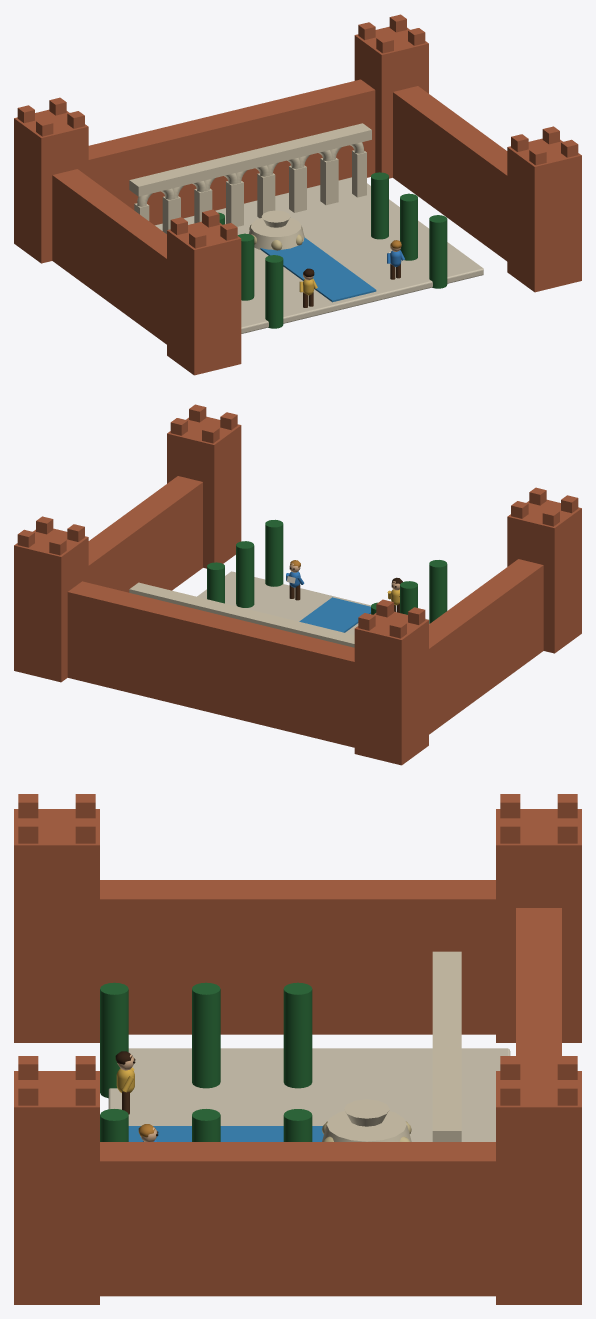
File: andalusPalace.glb
3 renders of one model, top to bottom at view 1: azimuth 30°, elevation 25°; view 2: azimuth 150°, elevation 25°; view 3: azimuth 270°, elevation 25°, orthographic. The views are drawn at different scales.
Parts seen in each view (by area): view 1: part_000; view 2: part_000; view 3: part_000.
Part boxes in pixels (x1=…): part_000: x1=14, y1=14, x2=581, y2=375; part_000: x1=14, y1=404, x2=581, y2=765; part_000: x1=14, y1=794, x2=581, y2=1304.
Bounding box in the file's own units: 12.3 × 4.13 × 9.9.
